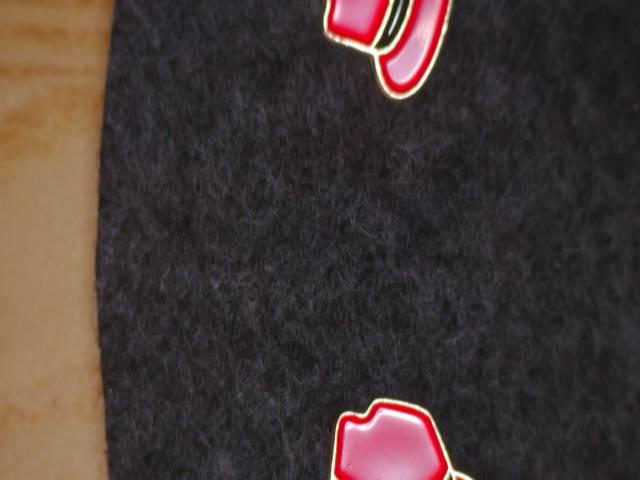Red-Hat: (304, 0, 464, 142), (303, 390, 519, 480)
